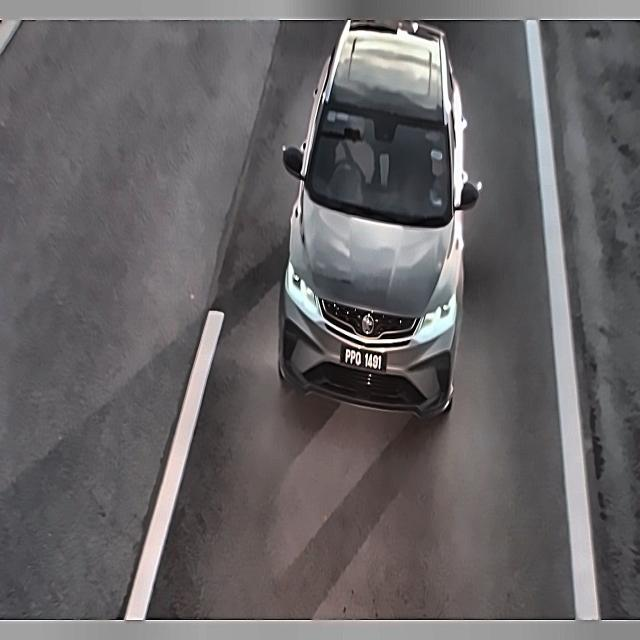car: (335, 337, 392, 377)
